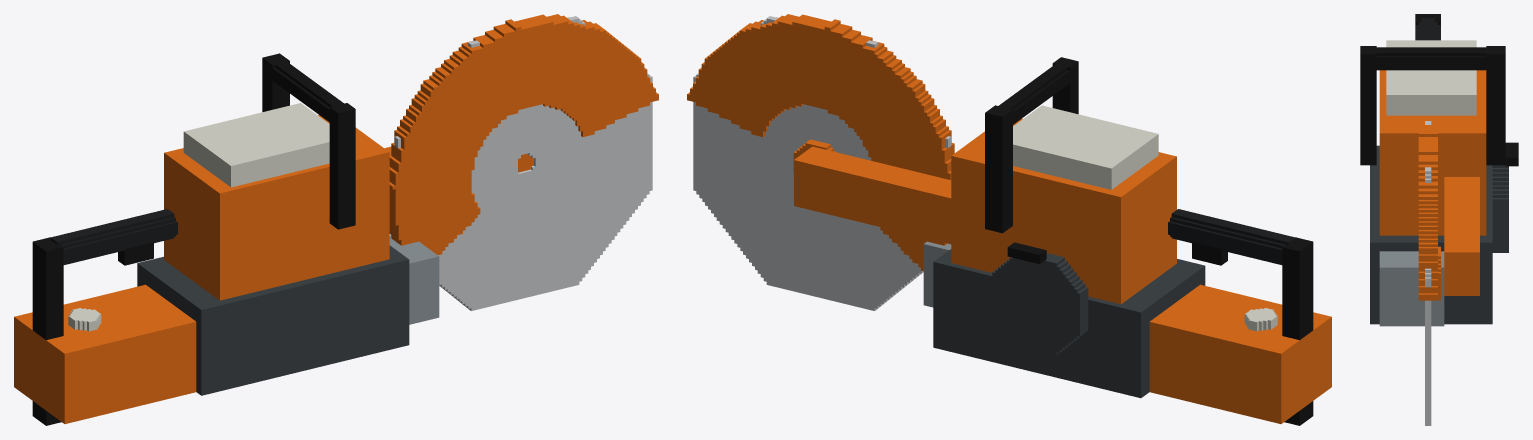
File: masonrysaw_off.glb
3 views of the same model, side by side, from view 1: azimuth 30°, elevation 25°; view 2: azimuth 150°, elevation 25°; view 3: azimuth 270°, elevation 25° (orthographic). The views are drawn at different scales.
Parts seen in each view (by area): view 1: masonrysaw_off:compound; view 2: masonrysaw_off:compound; view 3: masonrysaw_off:compound.
Part boxes in pixels (x1=…): masonrysaw_off:compound: x1=14, y1=14, x2=658, y2=425; masonrysaw_off:compound: x1=687, y1=14, x2=1331, y2=425; masonrysaw_off:compound: x1=1360, y1=14, x2=1518, y2=425.
Size of the model in its own units: 0.84 by 0.368 by 0.196.
